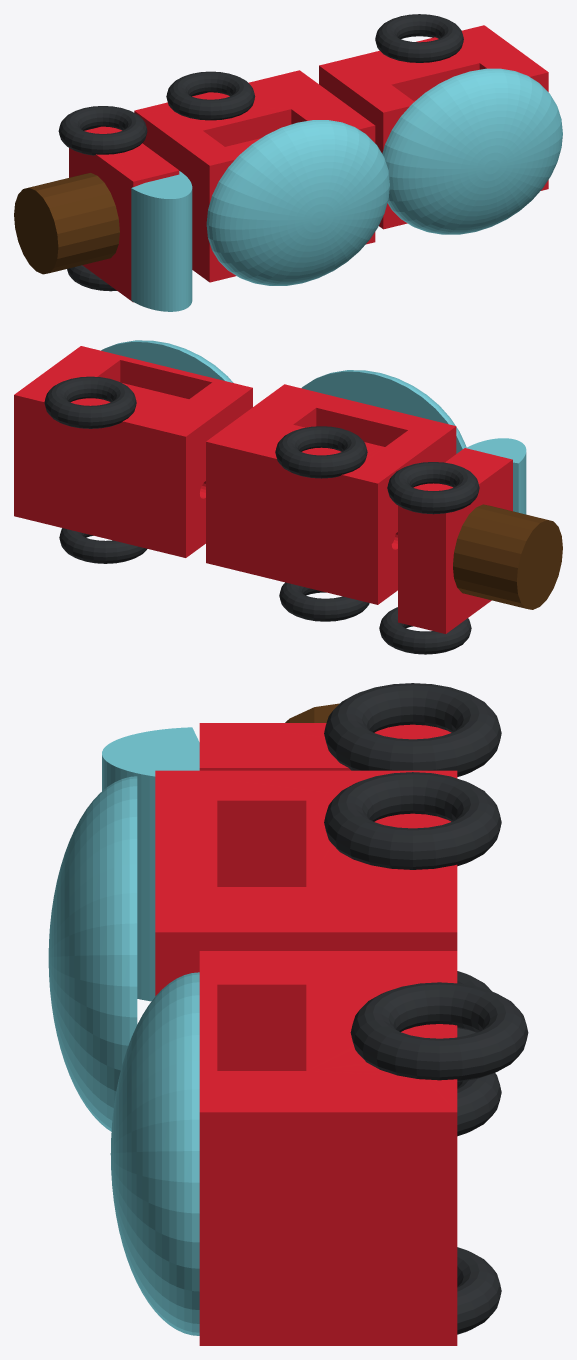
File: tinker.obj
The picture shows the model from 3 angles, top to bottom: view 1: azimuth 30°, elevation 25°; view 2: azimuth 150°, elevation 25°; view 3: azimuth 270°, elevation 25°; orthographic projection. The views are drawn at different scales.
Visible parts, largest first — view 1: group_0_7720667, group_0_15277357, group_0_2829873, group_0_6306067; view 2: group_0_15277357, group_0_2829873, group_0_6306067, group_0_7720667; view 3: group_0_15277357, group_0_7720667, group_0_2829873.
Part boxes in pixels (left/top/right/bottom): group_0_7720667: left=131, top=68, right=562, bottom=311; group_0_15277357: left=69, top=25, right=548, bottom=302; group_0_2829873: left=58, top=14, right=463, bottom=291; group_0_6306067: left=14, top=173, right=119, bottom=274; group_0_15277357: left=14, top=346, right=512, bottom=633; group_0_2829873: left=44, top=376, right=479, bottom=654; group_0_6306067: left=453, top=504, right=562, bottom=609; group_0_7720667: left=101, top=340, right=526, bottom=514; group_0_15277357: left=155, top=723, right=457, bottom=1345; group_0_7720667: left=48, top=727, right=199, bottom=1335; group_0_2829873: left=324, top=683, right=528, bottom=1334.
Size of the model in its own units: 127 by 43.51 by 54.
